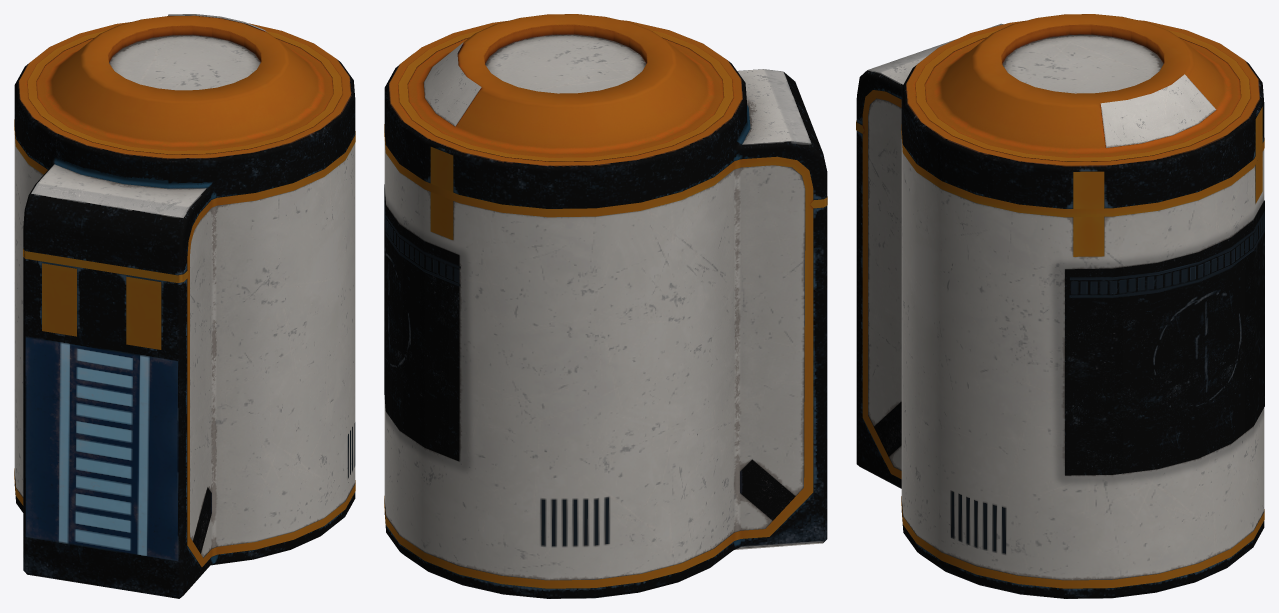
The model's file is Container_B3.fbx.
The picture shows the model from 3 angles, left to right: view 1: azimuth 30°, elevation 25°; view 2: azimuth 150°, elevation 25°; view 3: azimuth 270°, elevation 25°; orthographic projection. The views are drawn at different scales.
Visible parts, largest first — view 1: Container_B3; view 2: Container_B3; view 3: Container_B3.
Part boxes in pixels (x1,y1,x2,y2): Container_B3: (14,14,355,598); Container_B3: (384,14,827,598); Container_B3: (856,14,1264,598).
Bounding box in the file's own units: 151 × 181 × 144.
